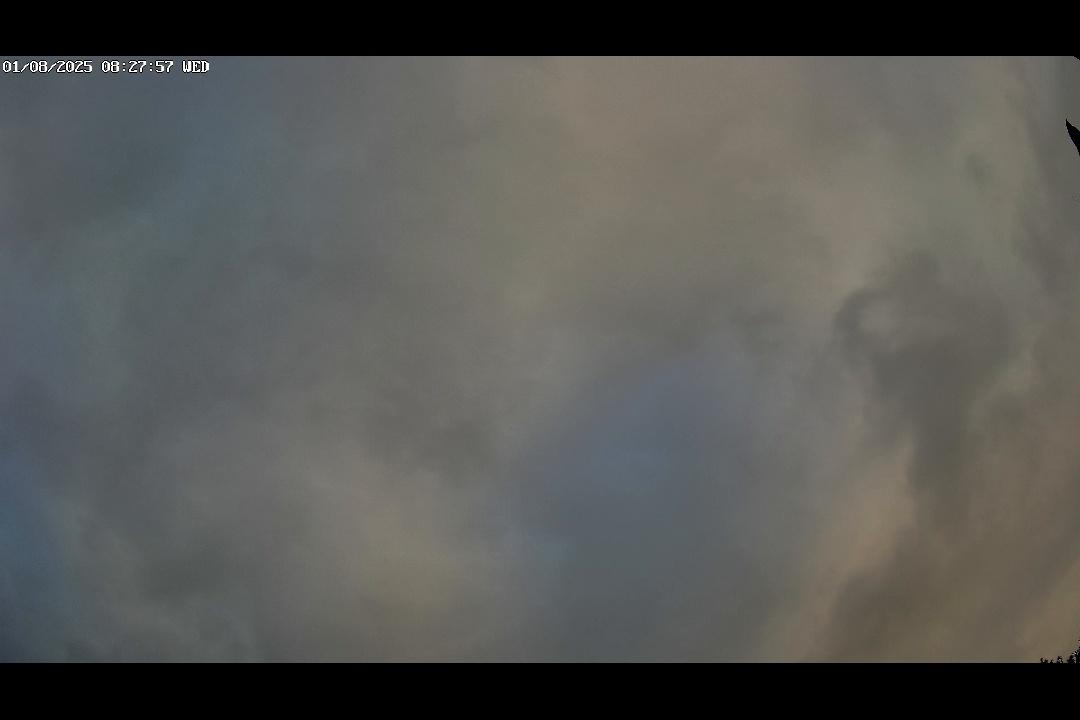WildLife: (1053, 117, 1080, 164)
